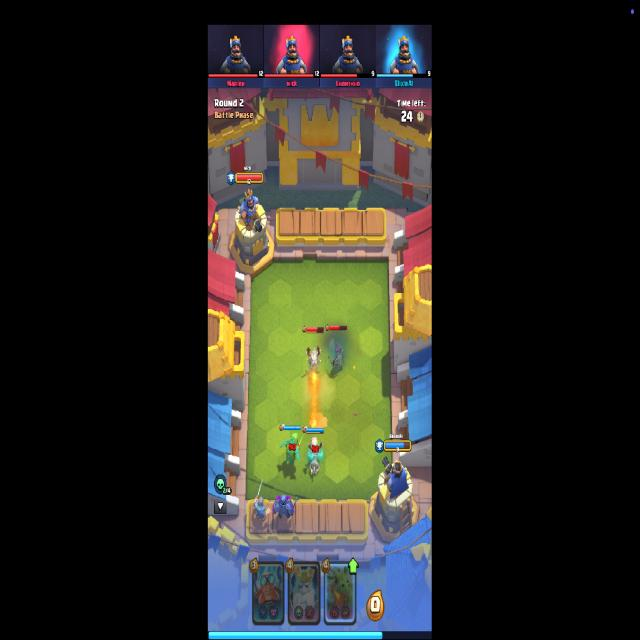archer_queen: (329, 344, 345, 377)
baby_dragon: (282, 432, 300, 470)
card_baby_drag: (324, 561, 356, 626)
card_electro_giant: (251, 560, 285, 628)
card_royal_ghost: (288, 560, 320, 626)
knight: (253, 478, 271, 522)
pekka: (271, 493, 298, 521)
skeleton_dragon: (306, 436, 322, 475), (306, 342, 322, 378)
